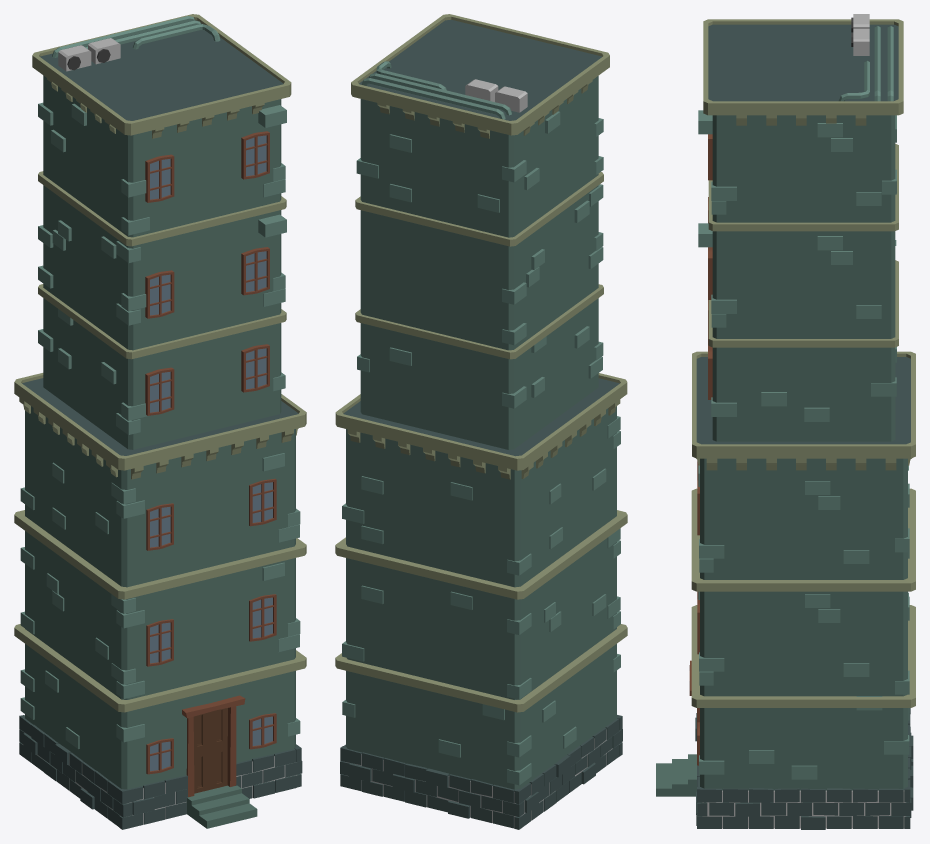
Rendered from 6Story_Stack.glb.
The picture shows the model from 3 angles, left to right: view 1: azimuth 30°, elevation 25°; view 2: azimuth 150°, elevation 25°; view 3: azimuth 270°, elevation 25°; orthographic projection. The views are drawn at different scales.
Visible parts, largest first — view 1: 6Story_Stack_Mat_Cube.012; view 2: 6Story_Stack_Mat_Cube.012; view 3: 6Story_Stack_Mat_Cube.012.
Boxes of the visible parts, bbox=[...] form: 6Story_Stack_Mat_Cube.012: bbox=[14, 14, 306, 829]; 6Story_Stack_Mat_Cube.012: bbox=[335, 14, 627, 829]; 6Story_Stack_Mat_Cube.012: bbox=[656, 14, 915, 829].
Size of the model in its own units: 2.16 by 7.8 by 2.5.
